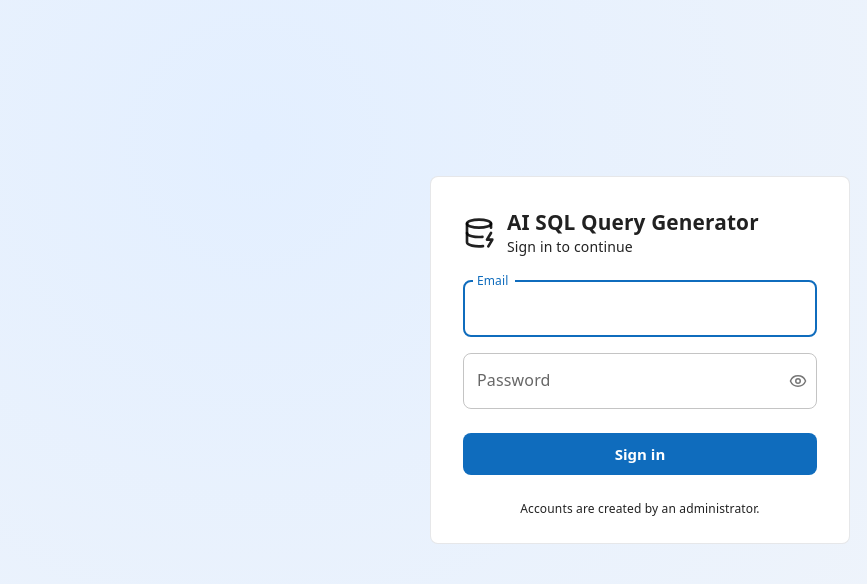
Test: LoginPage › validates required fields before submitting
The image size is (867, 584).
Click the button "Sign in": (640, 454) top-left (463, 433), bottom-right (817, 475)
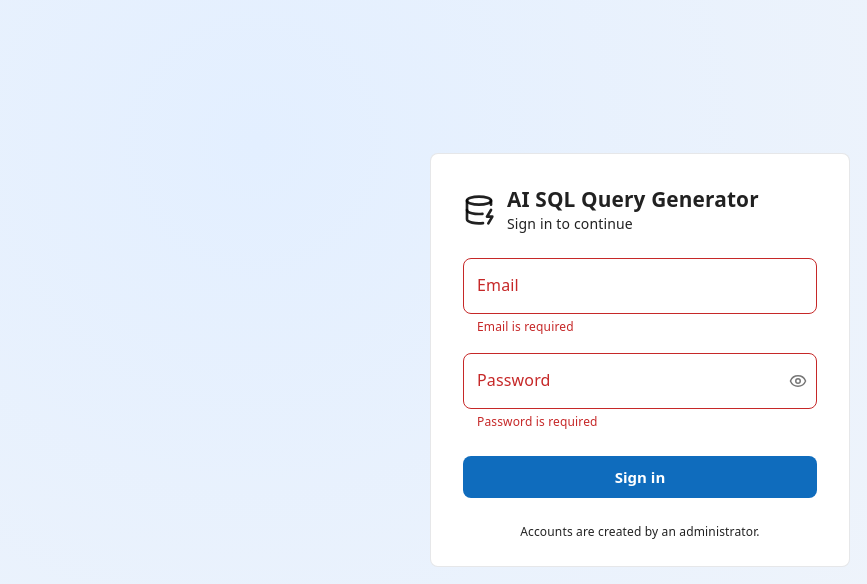
Check: the text "Email is required" is shown, box top-left (477, 318), bottom-right (574, 335)
Check: the text "Password is required" is shown, box top-left (477, 413), bottom-right (598, 430)
